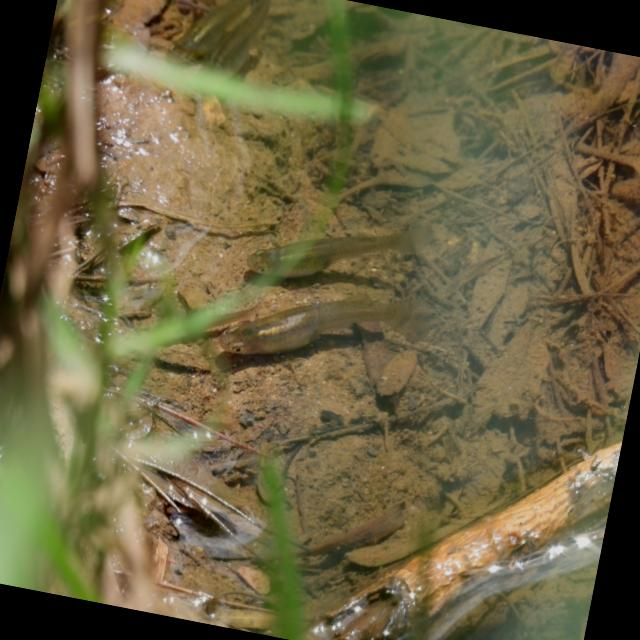Sivrisinek Baligi: (210, 256, 440, 394), (248, 183, 438, 313)
